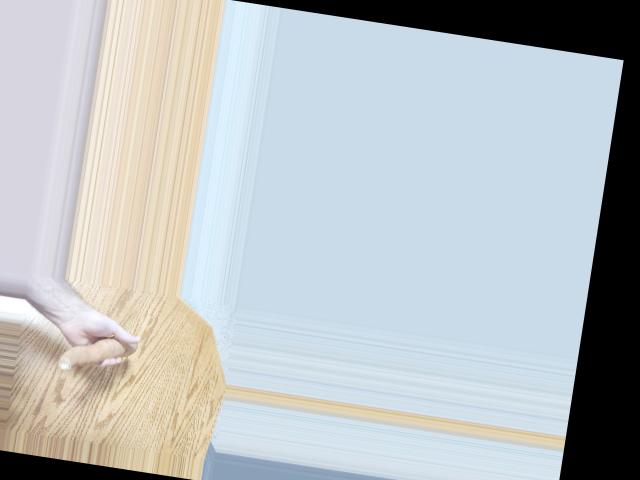sweet_potato: (54, 326, 137, 378)
